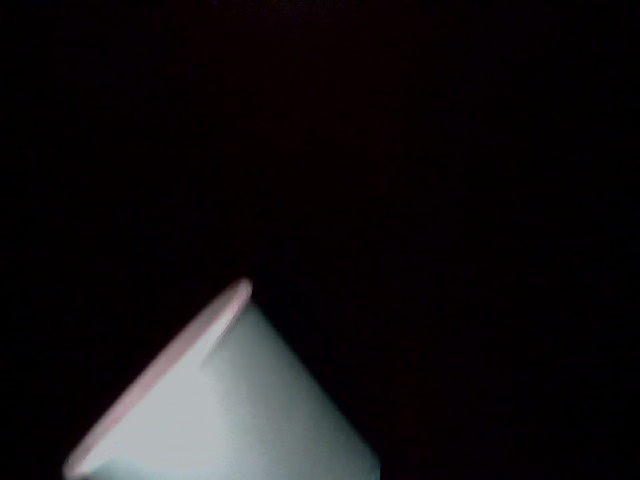CYLJ: (153, 430, 258, 480)
